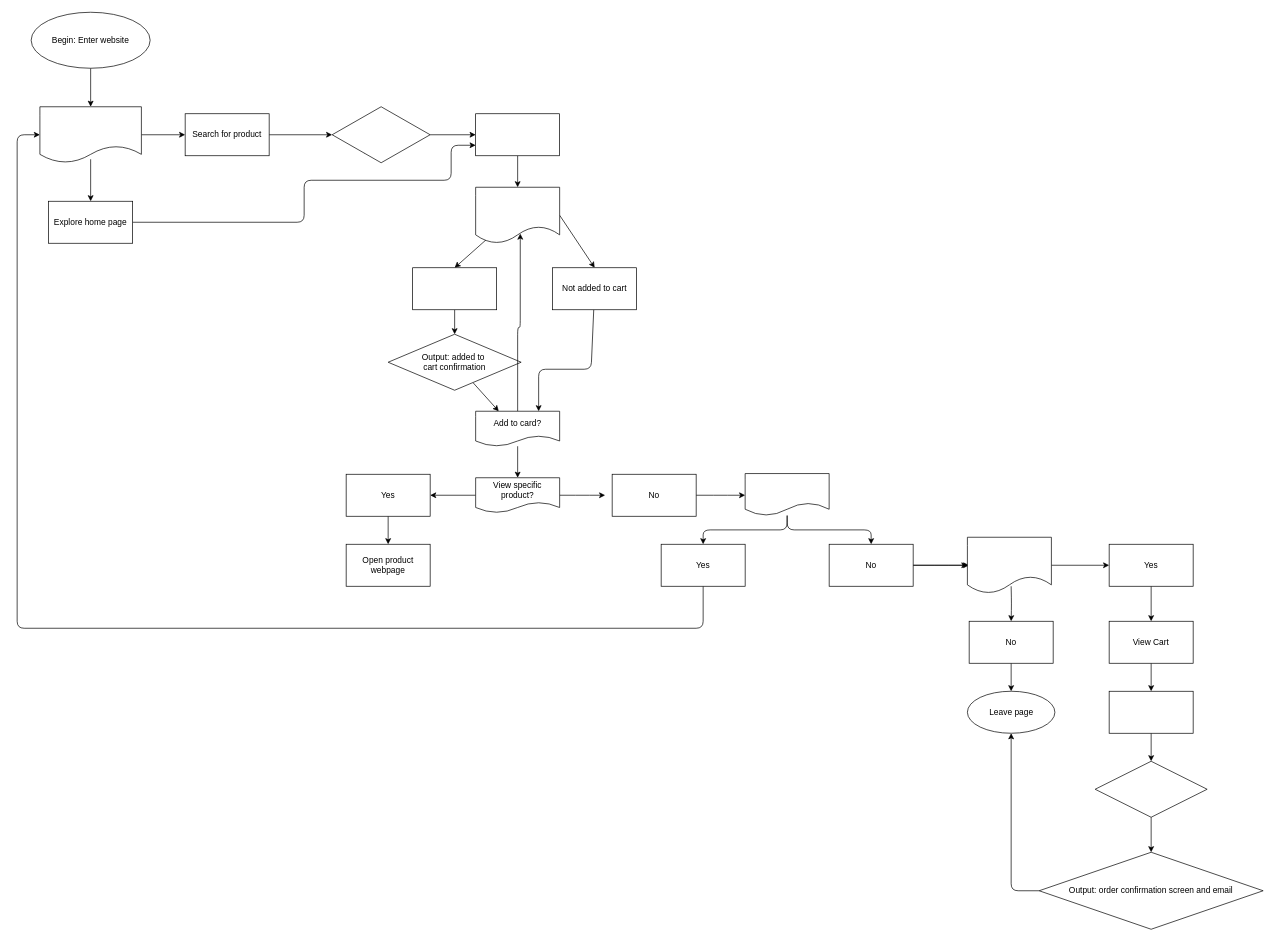
Some shapes in this 1275 by 942 pixel diagram are drawn without their labels. The shapes that lost their labels are listed below. From the top down, each one's box as (x1, y1, x2, y2) in pixels, then its label:
(39, 106, 141, 163): Option: 1. Search for product 2. Explore home page
(331, 106, 430, 163): Input: Search
(475, 113, 560, 156): Look over product
(475, 187, 560, 243): Option: 1. Added to cart 2. Not added to cart
(412, 267, 497, 310): Added to cart
(744, 473, 829, 516): Continue shopping?
(967, 537, 1051, 593): Checkout?
(1108, 691, 1193, 733): View Payment
(1094, 761, 1207, 817): Input: payment info
